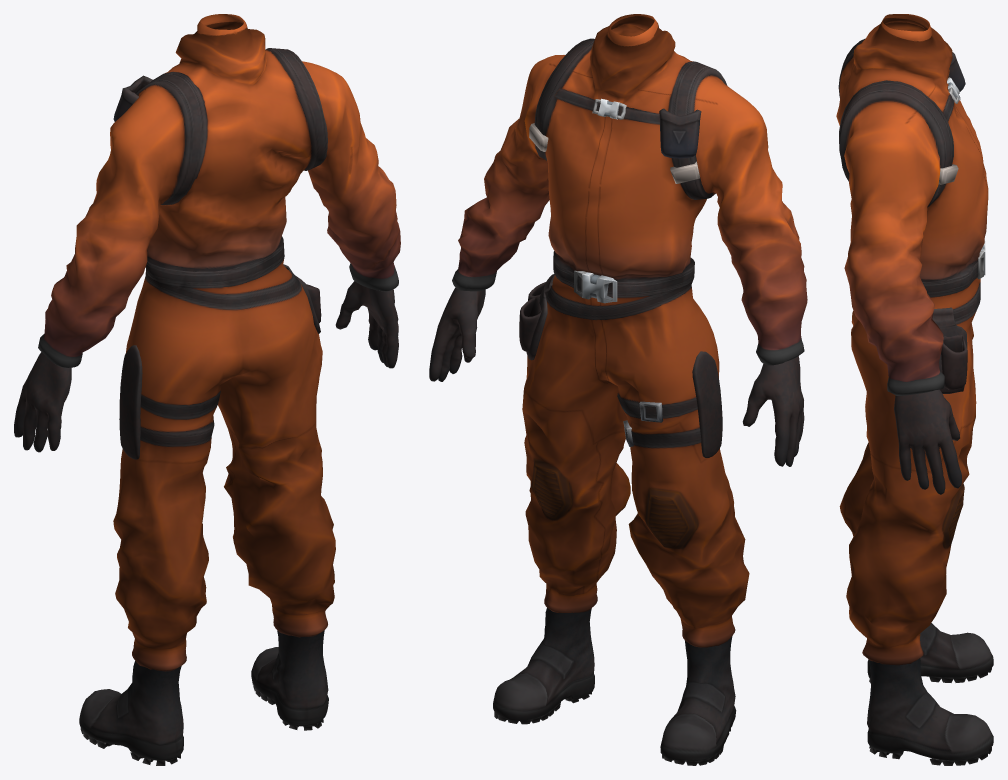
File: suit.fbx
3 renders of one model, left to right at view 1: azimuth 30°, elevation 25°; view 2: azimuth 150°, elevation 25°; view 3: azimuth 270°, elevation 25°, orthographic. The views are drawn at different scales.
Parts seen in each view (by area): view 1: suit; view 2: suit; view 3: suit.
Boxes of the visible parts, box(x1,y1,x2,y2) form: suit: box(14, 14, 400, 765); suit: box(429, 14, 807, 765); suit: box(836, 14, 993, 765).
Size of the model in its own units: 39.58 by 73.8 by 15.15.
Materials: 1 (1 with a texture image).
